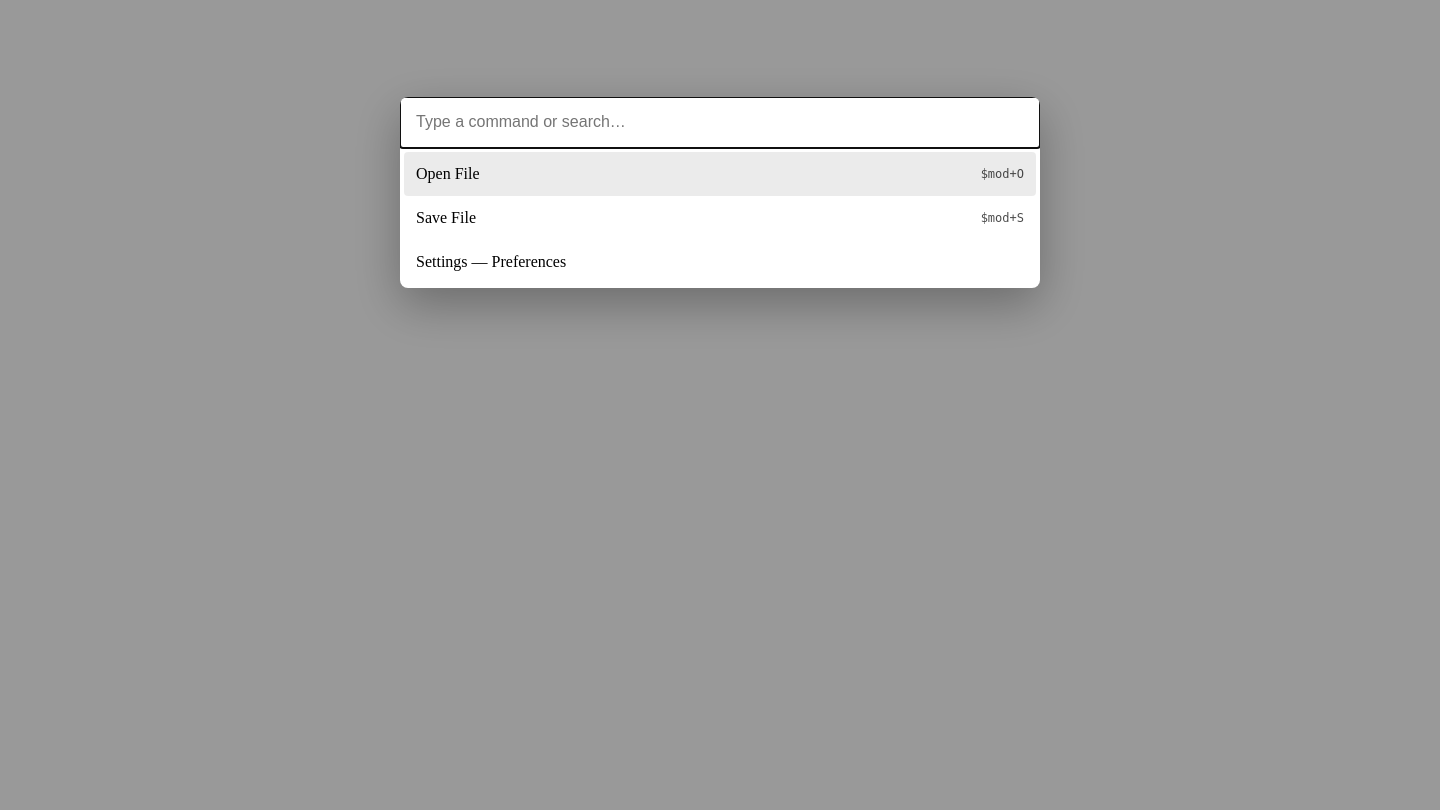
<CommandPalette> › matches on the subtitle when filtering
Type "preferences" into the dropdown. click: (720, 123)
box: [400,97,1040,148]
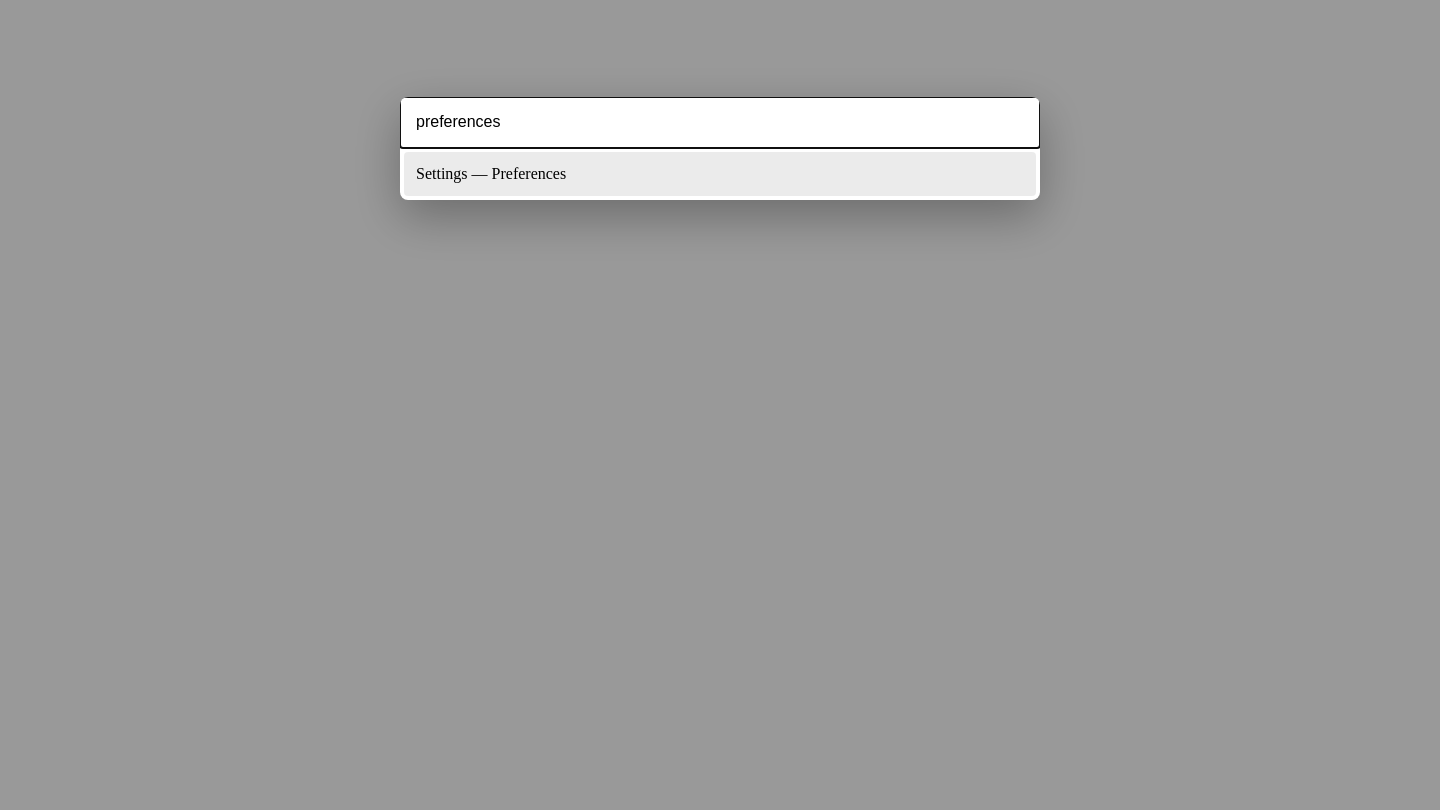
Expected: the option shows "Settings", [404,152,1036,196]
Expected: the number of options is 1, [404,152,1036,196]
